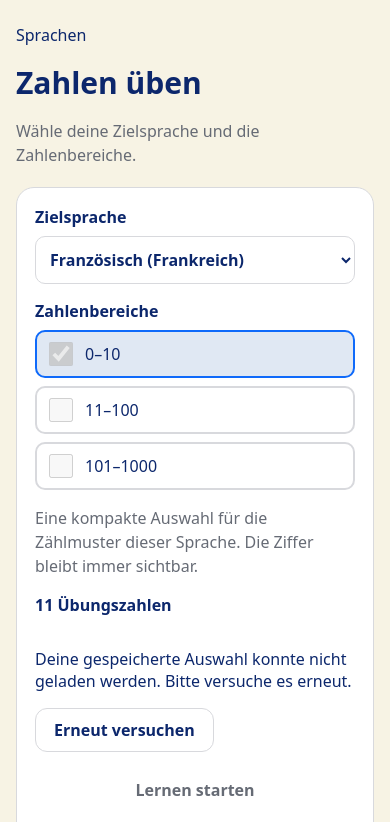
number practice setup › loads authoritative deck settings, rejects an empty scope and retries read errors
The image size is (390, 822).
Expected: the 2nd message is shown, [35,632,355,752]
Expected: the button "Lernen starten" is disabled, [35,768,355,812]
Click the button "Erneut versuchen" at (124, 730), box [35,708,214,752]
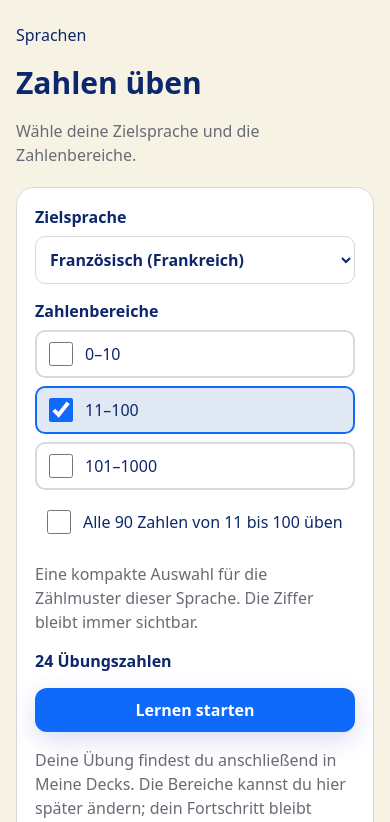
Result: the message reads "24 Übungszahlen" at [35,650,172,672]
Click the checkbox labelled "11–100" at (61, 410), box [49,398,73,422]
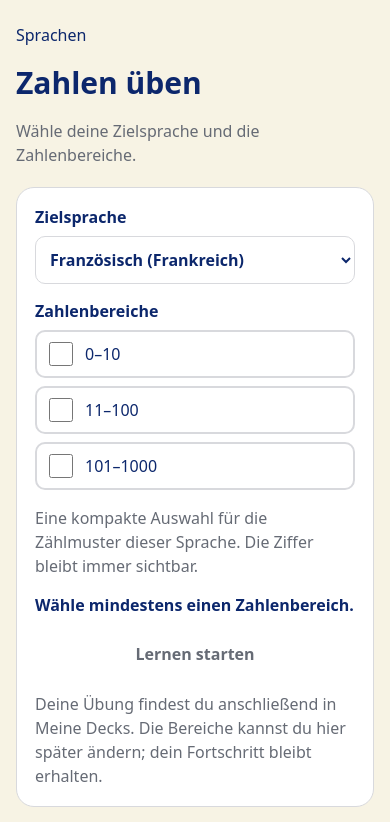
Result: the message reads "Wähle mindestens einen Zahlenbereich." at [35,594,354,616]
Result: the button "Lernen starten" is disabled at [35,632,355,676]
Result: the text labelled "Alle 90 Zahlen von 11 bis 100 üben" is gone
